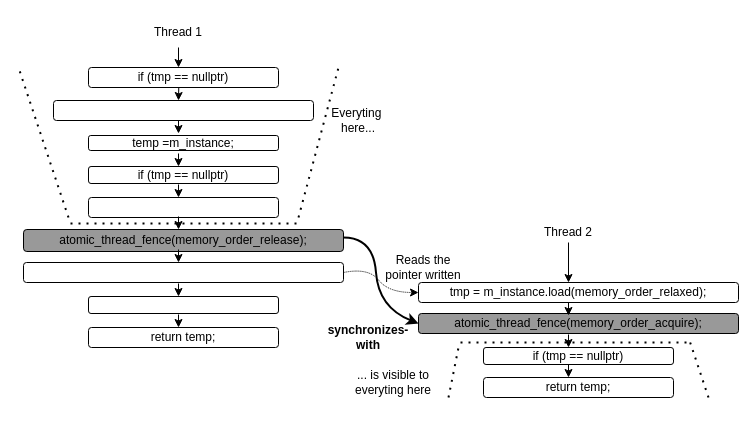
Image size: 756x424. Some labels were removed from this diagram. Each missing label, with the centre of its shape:
lock_guard<mutex> lock(m_mutex);: the point at 183,110
m_instance.store(temp, memory_order_relaxed);: the point at 183,272
release lock: the point at 183,305
tmp = new Singleton;: the point at 183,207
